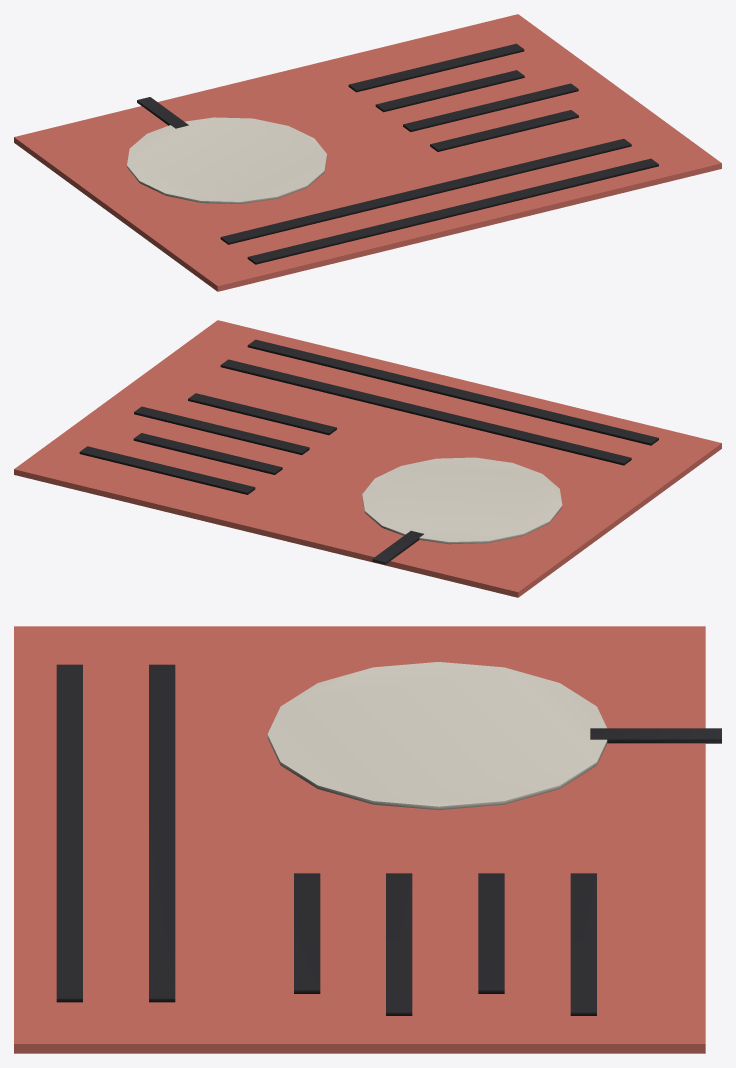
Rendered from recipe_page.glb.
The picture shows the model from 3 angles, top to bottom: view 1: azimuth 30°, elevation 25°; view 2: azimuth 150°, elevation 25°; view 3: azimuth 270°, elevation 25°; orthographic projection. The views are drawn at different scales.
Visible parts, largest first — view 1: PART; view 2: PART; view 3: PART.
Part boxes in pixels (<box>): PART: <box>14,14,721,291</box>; PART: <box>14,320,721,597</box>; PART: <box>14,626,721,1053</box>.
Bounding box in the file's own units: 0.15 × 0.00225 × 0.1075.
